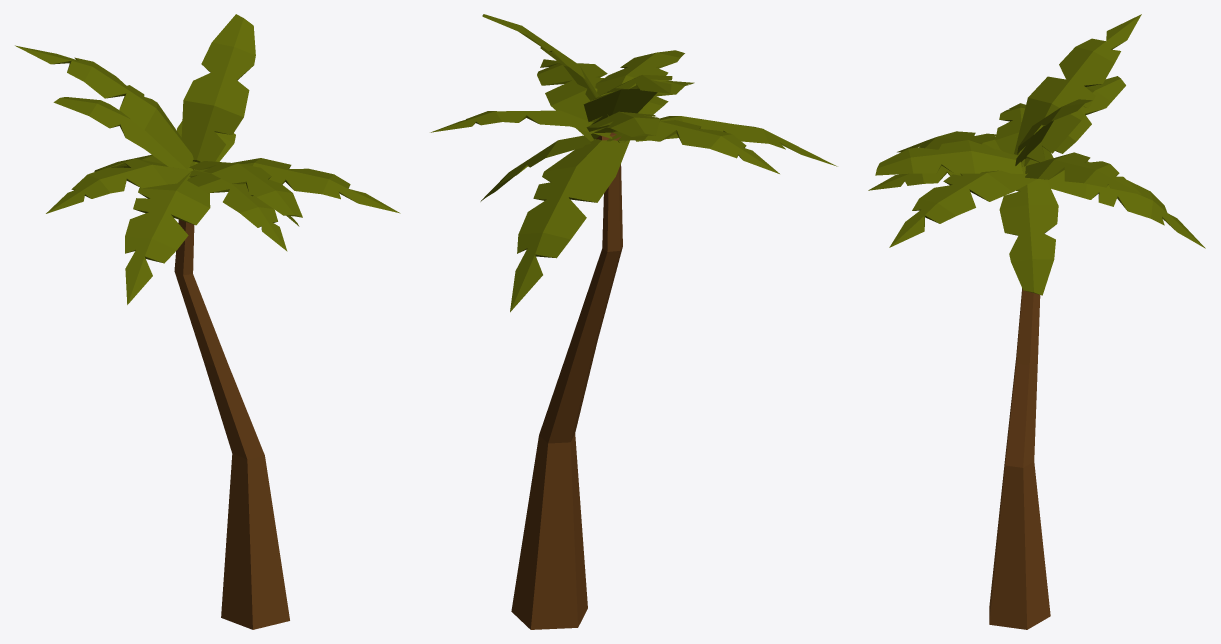
The model's file is PalmTree3.fbx.
3 views of the same model, side by side, from view 1: azimuth 30°, elevation 25°; view 2: azimuth 150°, elevation 25°; view 3: azimuth 270°, elevation 25° (orthographic). The views are drawn at different scales.
Parts seen in each view (by area): view 1: PalmTree3; view 2: PalmTree3; view 3: PalmTree3.
Part boxes in pixels (x1,y1,x2,y2): PalmTree3: (15, 14, 400, 629); PalmTree3: (430, 14, 837, 629); PalmTree3: (868, 14, 1205, 629).
Size of the model in its own units: 273 by 518 by 303.
